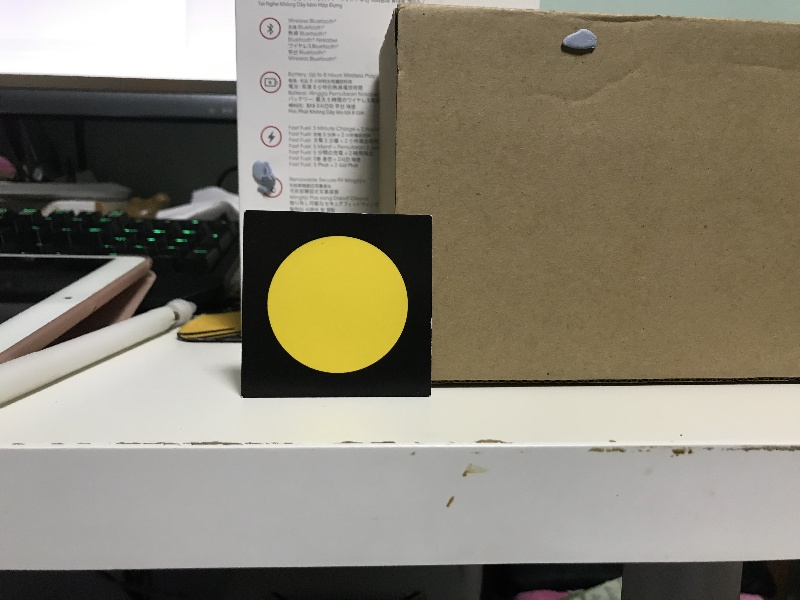Stop-5: (246, 216, 430, 394)
